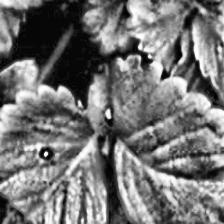Leaf Spot: (0, 85, 107, 224), (0, 58, 39, 154), (85, 75, 113, 158)
